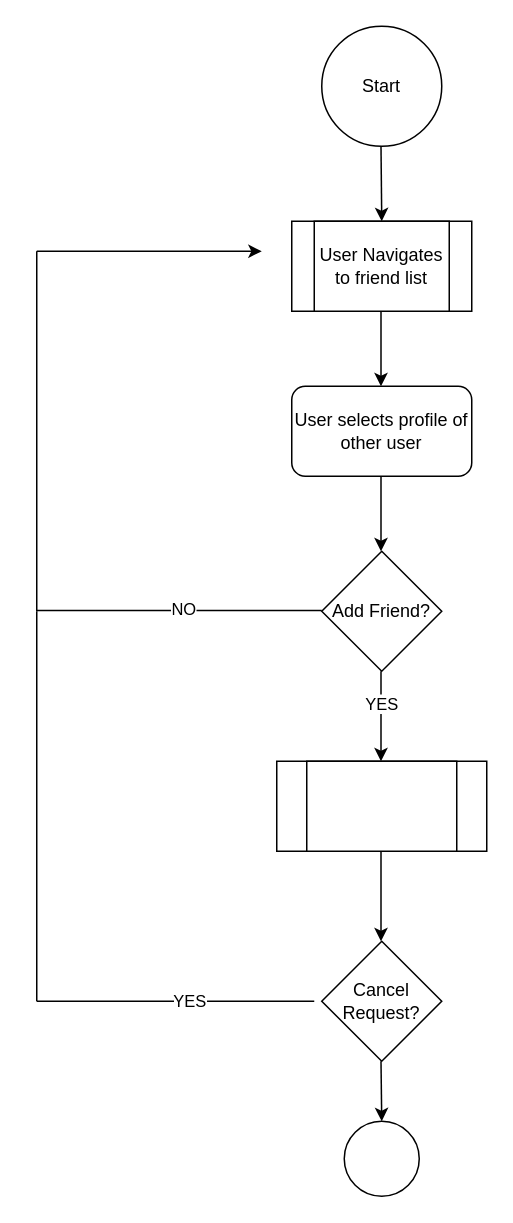
Some shapes in this 513 by 1223 pixel diagram are drawn without their labels. Each missing label, with the centre of its shape:
"End" goes at pixel 381 1158.
"Friend Request Send" goes at pixel 381 805.
